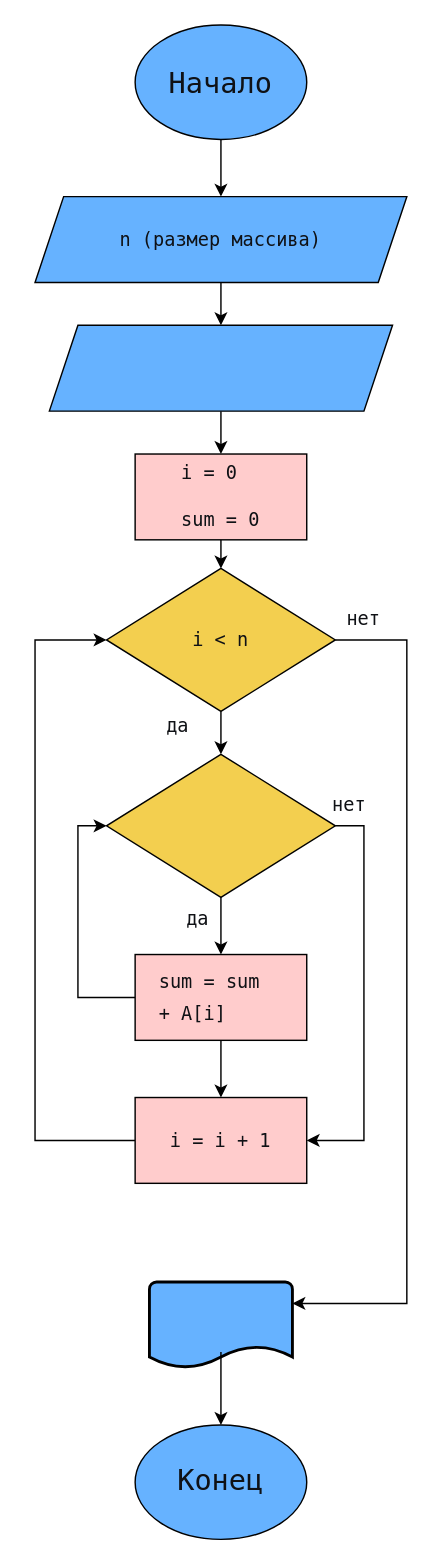
Some shapes in this 443 by 1564 pixel diagram are drawn without their labels. Here are the shapes that lost their labels. From the top down, the centre of each, then its label:
At (220,367): "Создать массив A размером n".
At (220,825): "i % 2 != 0".
At (220,1324): "sum".
